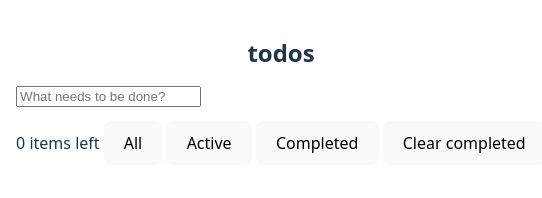
Scenario: TodoApp › adds a new todo
Type "Test Task" into the field with test id "todo-input" at (109, 96), box [16, 86, 201, 107]
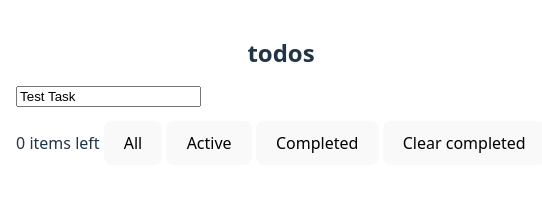
Press Enter in the field with test id "todo-input", box [16, 86, 201, 107]
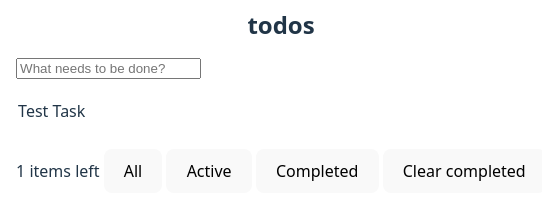
Expected: the text "Test Task" is shown, [18, 99, 85, 123]
